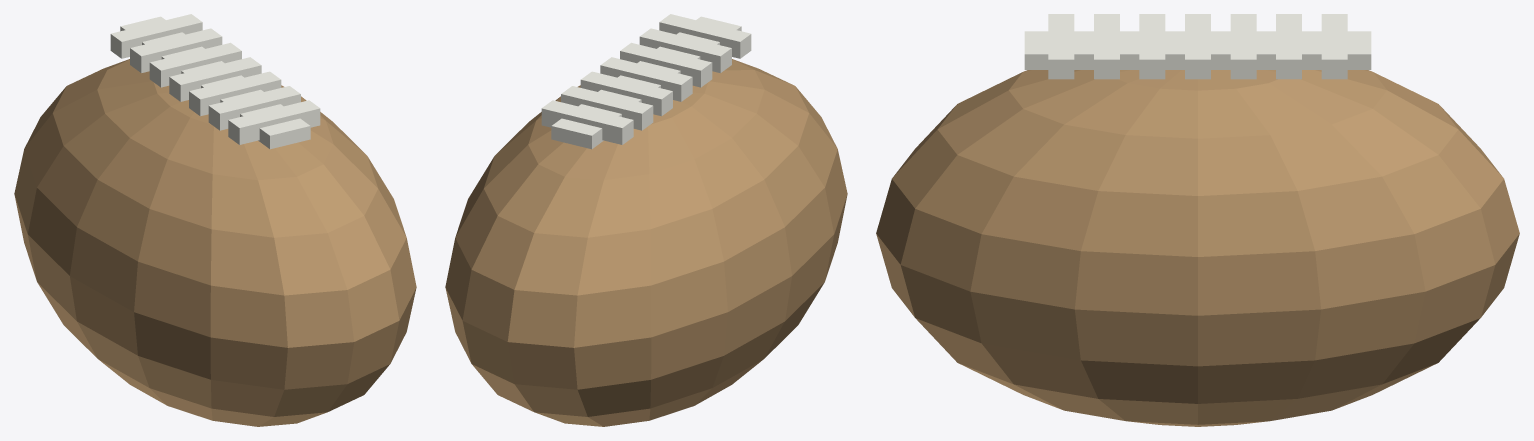
The model's file is american-football-stadium-kit-football-87062614__22366.glb.
3 renders of one model, left to right at view 1: azimuth 30°, elevation 25°; view 2: azimuth 150°, elevation 25°; view 3: azimuth 270°, elevation 25°, orthographic. The views are drawn at different scales.
Parts seen in each view (by area): view 1: football; view 2: football; view 3: football.
Part boxes in pixels (x1,y1,x2,y2): football: (14,14,416,426); football: (445,14,847,426); football: (876,14,1519,426).
Bounding box in the file's own units: 0.18 × 0.19 × 0.297.
